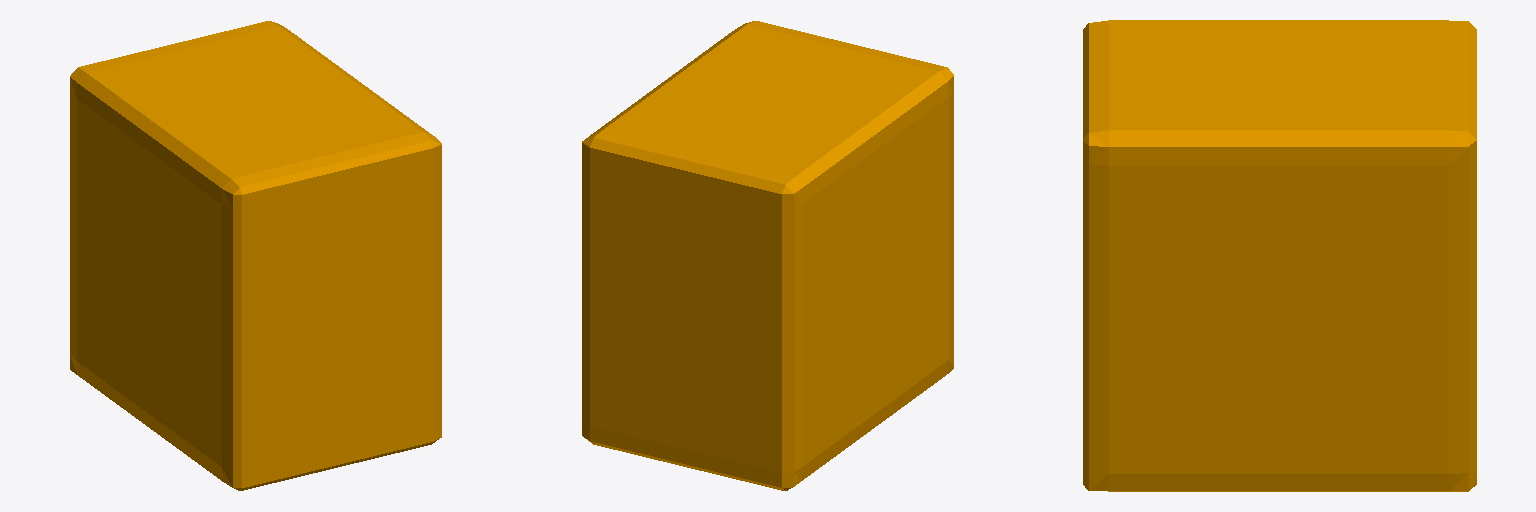
URDF robot description (cylinder_box_128):
<?xml version="1.0" encoding="utf-8"?>  <robot name="cylinder_box_128">   <link name="cylinder_box_128">     <visual>       <geometry>         <mesh filename="../meshes/box/box_128.stl" scale="1 1 1"/>       </geometry>     </visual>     <collision>       <geometry>         <mesh filename="../meshes/box/box_128.stl" scale="1 1 1"/>       </geometry>     </collision>     <inertial>        <origin         xyz="0 0 0"         rpy="0 0 0" />       <mass value="0.7075375502362627"/>       <origin rpy="0 0 0" xyz="0 0 0"/>       <inertia ixx="0.001147686305078533" ixy="1.3329406503910518e-07" ixz="1.4199247699948884e-07" iyy="0.0008871623492364908" iyz="-1.0394374167590182e-07" izz="0.0008761333771200562"/>     </inertial>   </link>  </robot>

--- Facts derived from the render (not from the file) ---
Views: 3 orthographic renders of the robot side by side, from view 1: azimuth 30°, elevation 25°; view 2: azimuth 150°, elevation 25°; view 3: azimuth 270°, elevation 25°.
Model cylinder_box_128 with 1 links and 0 joints (none), rooted at cylinder_box_128, posed all joints at 0.
Links seen in each view (by area): view 1: cylinder_box_128; view 2: cylinder_box_128; view 3: cylinder_box_128.
Boxes of the visible links, x1=… form: cylinder_box_128: x1=70, y1=21, x2=441, y2=490; cylinder_box_128: x1=582, y1=21, x2=953, y2=490; cylinder_box_128: x1=1083, y1=20, x2=1476, y2=491.
Size in the robot's own frame: 0.0727 by 0.0986 by 0.0995 metres.
Meshes: 1 distinct files referenced, 1 mesh visuals loaded (1 binary STL).